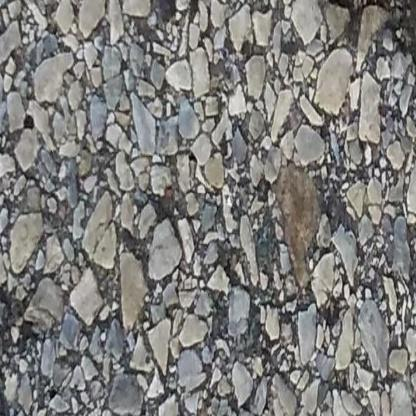Cracks: (317, 0, 416, 72)
